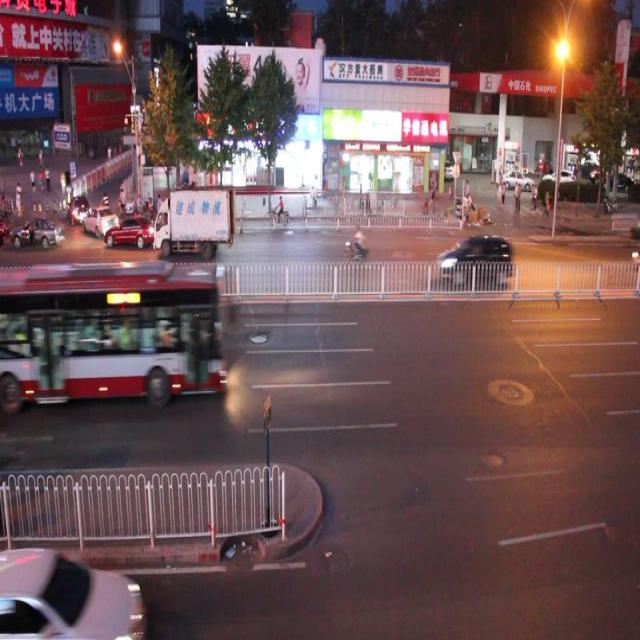bus: (153, 189, 232, 257)
car: (1, 545, 147, 640), (438, 235, 511, 283), (166, 185, 223, 232), (11, 202, 65, 241), (104, 214, 153, 249), (83, 202, 120, 240), (68, 193, 90, 223)
van: (1, 264, 224, 392)
